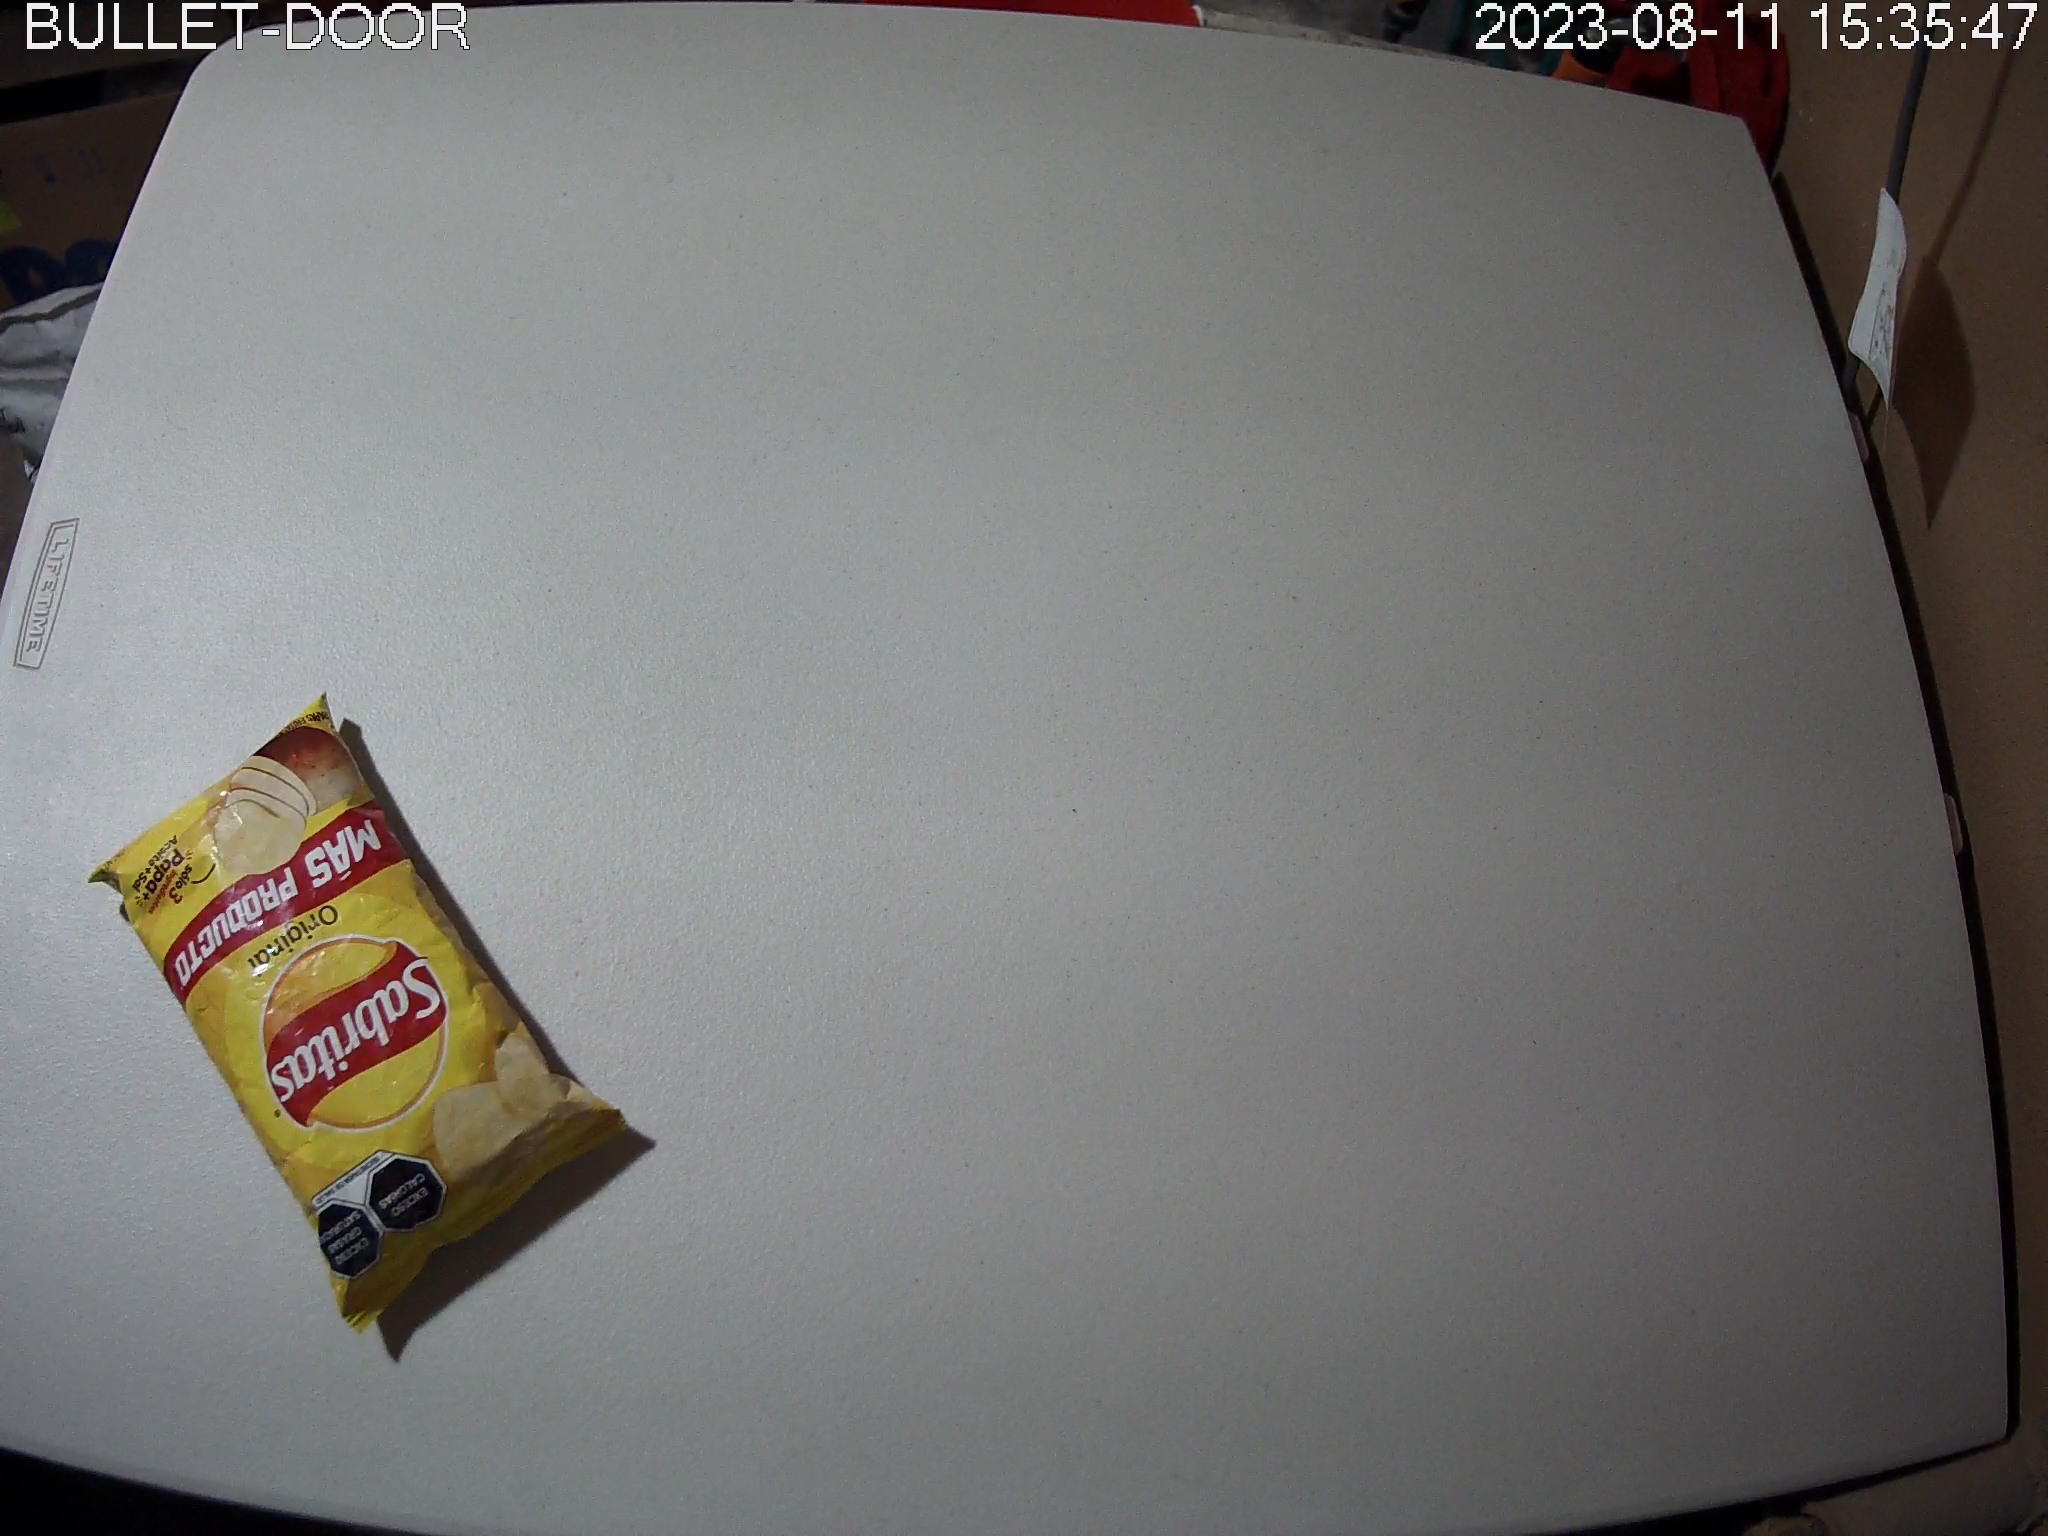Sabritas_45_F: (85, 687, 635, 1339)
